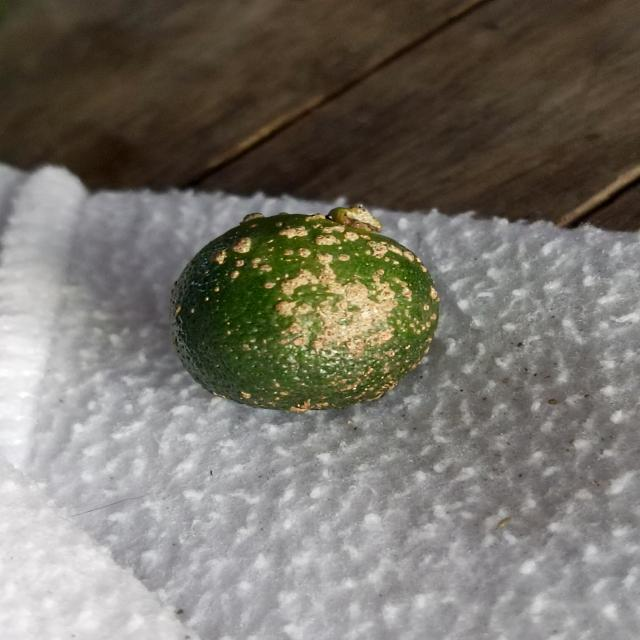scab: (165, 210, 439, 412)
